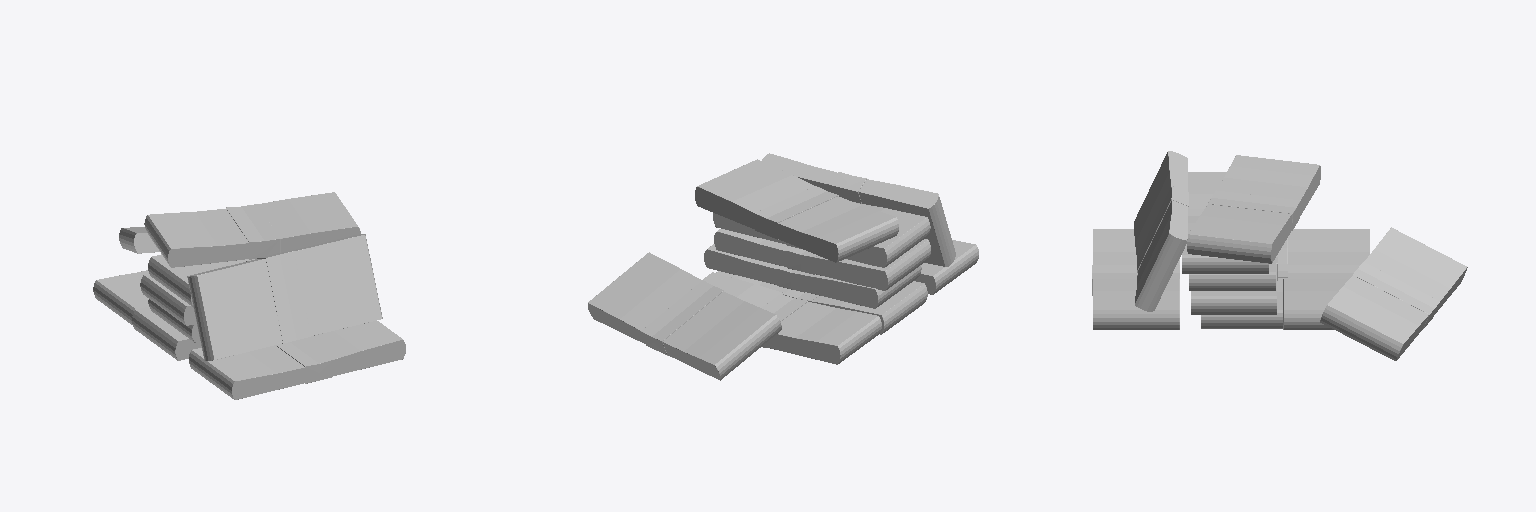
File: Dolar.obj
3 views of the same model, side by side, from view 1: azimuth 30°, elevation 25°; view 2: azimuth 150°, elevation 25°; view 3: azimuth 270°, elevation 25° (orthographic).
Parts seen in each view (by area): view 1: Box01_3_2_Untitled.003, Box01_2_3_Untitled.001, Box01_1_2_Untitled.004, Box01_0_2_Untitled.002, Box01_0_Untitled.005, Box01_3_Untitled.008, Box01_2_Untitled.006, Box01_1_3_Untitled.007, Box01_1_Untitled; view 2: Box01_1_3_Untitled.007, Box01_2_3_Untitled.001, Box01_0_2_Untitled.002, Box01_3_2_Untitled.003, Box01_2_Untitled.006, Box01_1_Untitled, Box01_3_Untitled.008, Box01_0_Untitled.005, Box01_1_2_Untitled.004; view 3: Box01_1_3_Untitled.007, Box01_2_3_Untitled.001, Box01_0_2_Untitled.002, Box01_3_2_Untitled.003, Box01_1_2_Untitled.004, Box01_3_Untitled.008, Box01_1_Untitled, Box01_0_Untitled.005, Box01_2_Untitled.006.
Part boxes in pixels (left/top/right/bottom): Box01_3_2_Untitled.003: left=187, top=234, right=382, bottom=360; Box01_2_3_Untitled.001: left=144, top=192, right=360, bottom=267; Box01_1_2_Untitled.004: left=189, top=321, right=405, bottom=399; Box01_0_2_Untitled.002: left=93, top=270, right=148, bottom=324; Box01_0_Untitled.005: left=132, top=307, right=201, bottom=360; Box01_3_Untitled.008: left=148, top=254, right=254, bottom=307; Box01_2_Untitled.006: left=140, top=274, right=196, bottom=325; Box01_1_3_Untitled.007: left=119, top=227, right=159, bottom=253; Box01_1_Untitled: left=148, top=299, right=199, bottom=342; Box01_1_3_Untitled.007: left=588, top=252, right=781, bottom=380; Box01_2_3_Untitled.001: left=695, top=159, right=898, bottom=262; Box01_0_2_Untitled.002: left=703, top=272, right=881, bottom=364; Box01_3_2_Untitled.003: left=762, top=153, right=955, bottom=266; Box01_2_Untitled.006: left=714, top=229, right=930, bottom=290; Box01_1_Untitled: left=704, top=244, right=921, bottom=308; Box01_3_Untitled.008: left=713, top=202, right=930, bottom=267; Box01_0_Untitled.005: left=716, top=271, right=927, bottom=334; Box01_1_2_Untitled.004: left=914, top=240, right=978, bottom=294; Box01_1_3_Untitled.007: left=1320, top=227, right=1467, bottom=360; Box01_2_3_Untitled.001: left=1187, top=155, right=1320, bottom=263; Box01_0_2_Untitled.002: left=1283, top=229, right=1369, bottom=329; Box01_3_2_Untitled.003: left=1134, top=151, right=1188, bottom=311; Box01_1_2_Untitled.004: left=1092, top=229, right=1179, bottom=329; Box01_3_Untitled.008: left=1182, top=172, right=1268, bottom=273; Box01_1_Untitled: left=1191, top=255, right=1277, bottom=314; Box01_0_Untitled.005: left=1201, top=238, right=1287, bottom=328; Box01_2_Untitled.006: left=1189, top=258, right=1275, bottom=290.
Bounding box in the file's own units: 1.09 × 0.4288 × 1.48.